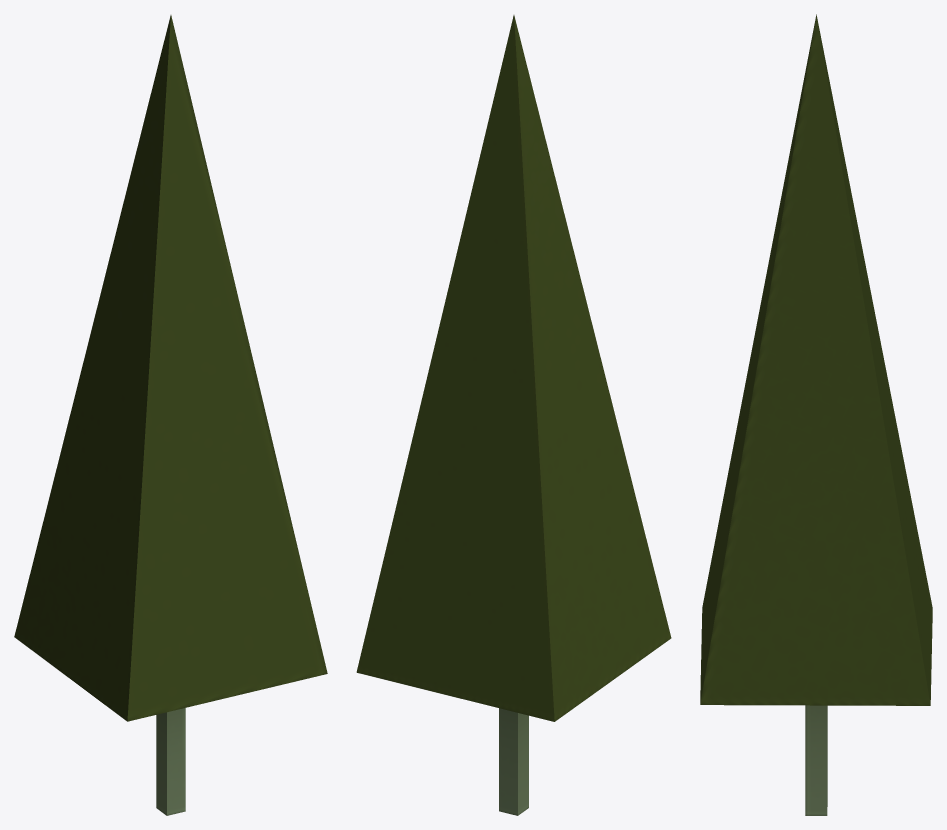
Rendered from world1_tree03_fbx.fbx.
The picture shows the model from 3 angles, left to right: view 1: azimuth 30°, elevation 25°; view 2: azimuth 150°, elevation 25°; view 3: azimuth 270°, elevation 25°; orthographic projection.
Parts seen in each view (by area): view 1: world1_tree03; view 2: world1_tree03; view 3: world1_tree03.
Boxes of the visible parts, <box> form: world1_tree03: <box>14,15,327,815</box>; world1_tree03: <box>356,15,671,815</box>; world1_tree03: <box>700,14,932,815</box>.
Size of the model in its own units: 45 by 170 by 45.
